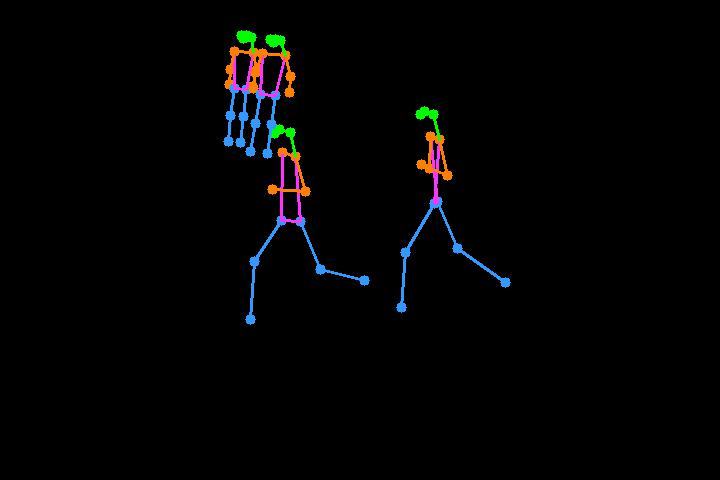normal: (366, 91, 530, 329), (228, 106, 373, 335), (208, 24, 303, 165)
